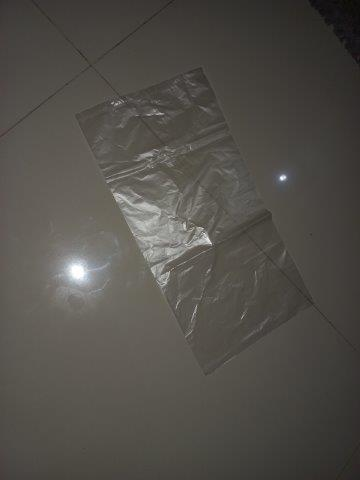plastik: (76, 66, 312, 373)
